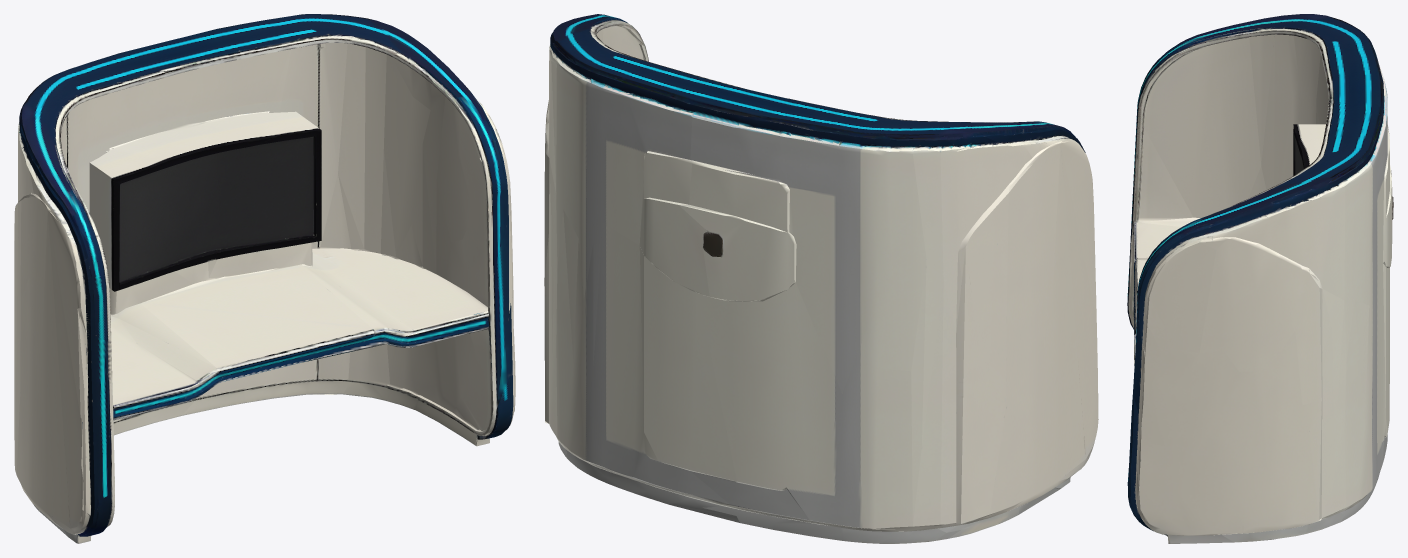
The model's file is gabinete.glb.
3 views of the same model, side by side, from view 1: azimuth 30°, elevation 25°; view 2: azimuth 150°, elevation 25°; view 3: azimuth 270°, elevation 25° (orthographic). The views are drawn at different scales.
Bounding box in the file's own units: 1.9 × 1.56 × 1.06.
Materials: 1 (1 with a texture image).
